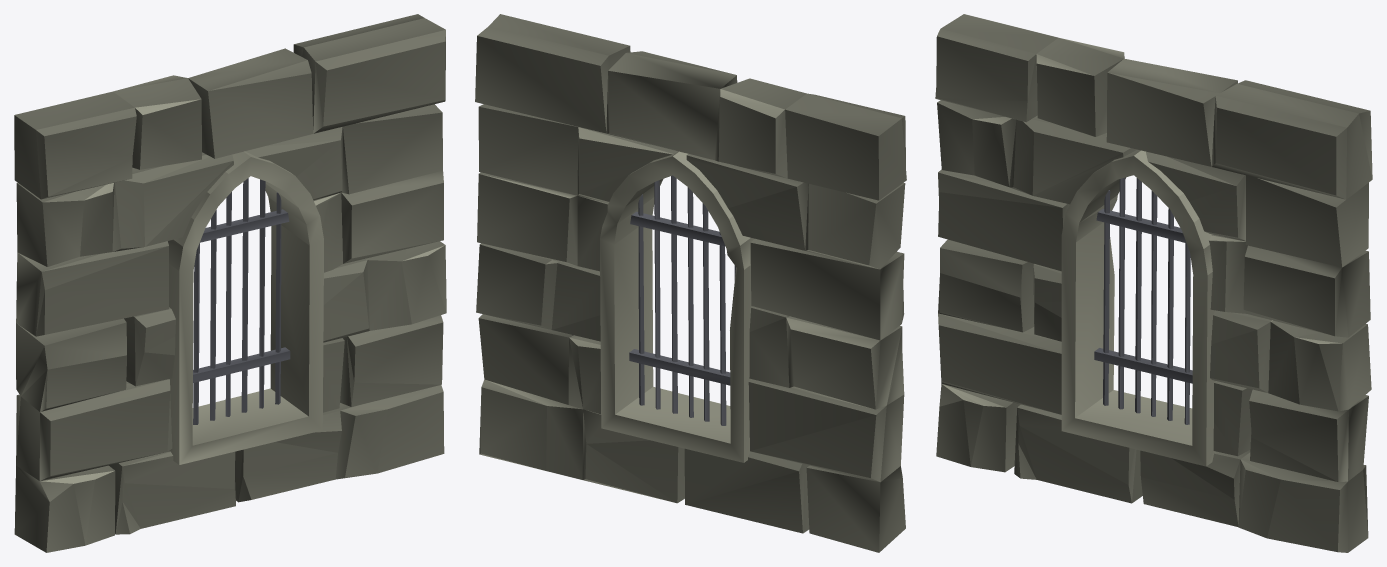
The model's file is WallWindow.fbx.
3 views of the same model, side by side, from view 1: azimuth 30°, elevation 25°; view 2: azimuth 150°, elevation 25°; view 3: azimuth 330°, elevation 25° (orthographic).
Visible parts, largest first — view 1: WallWindow; view 2: WallWindow; view 3: WallWindow.
Part boxes in pixels (bbox=[...]): WallWindow: bbox=[14, 14, 446, 552]; WallWindow: bbox=[475, 14, 906, 552]; WallWindow: bbox=[935, 14, 1372, 552].
Size of the model in its own units: 99.8 by 16.29 by 99.8.
